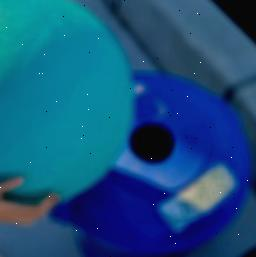algae: (0, 0, 136, 203)
